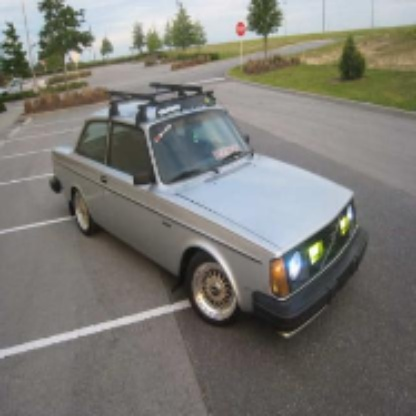Vehicle: (48, 83, 372, 342)
